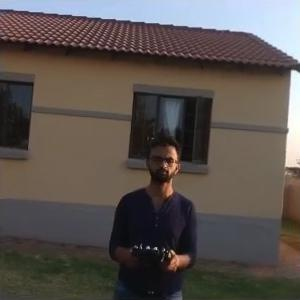follow: (104, 127, 199, 298)
